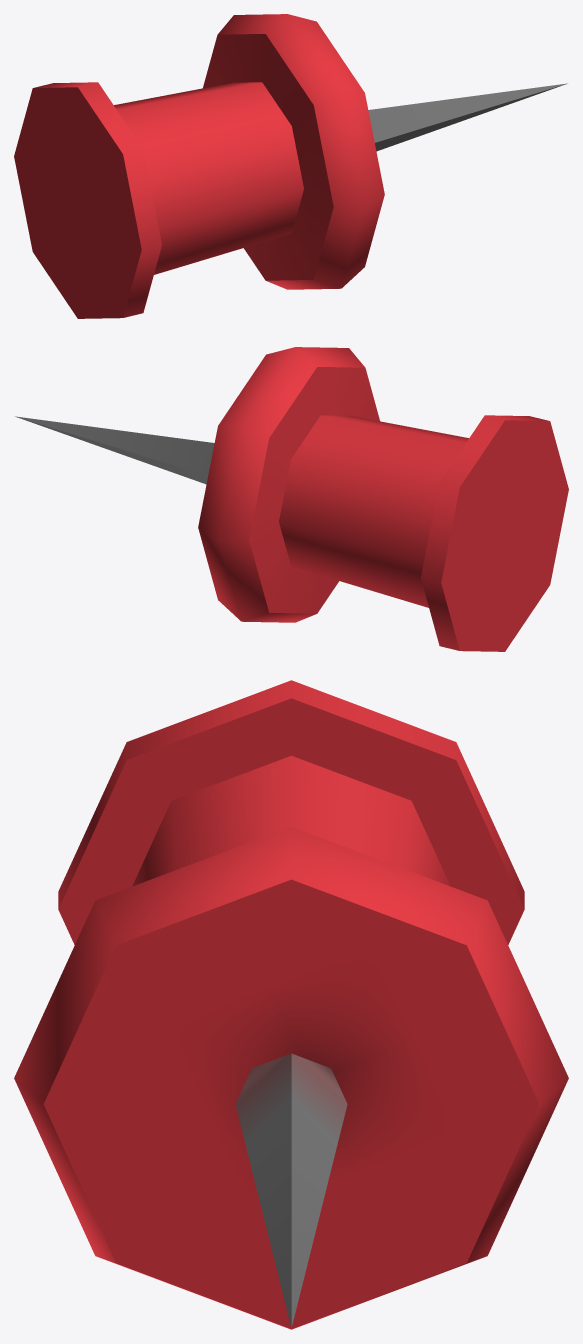
Rendered from Tachuela.fbx.
The picture shows the model from 3 angles, top to bottom: view 1: azimuth 30°, elevation 25°; view 2: azimuth 150°, elevation 25°; view 3: azimuth 270°, elevation 25°; orthographic projection. The views are drawn at different scales.
Parts seen in each view (by area): view 1: Tachuela; view 2: Tachuela; view 3: Tachuela.
Part boxes in pixels (x1,y1,x2,y2): Tachuela: [14, 14, 567, 318]; Tachuela: [15, 347, 568, 651]; Tachuela: [14, 680, 568, 1329].
Size of the model in its own units: 11.85 by 6.36 by 6.36.
